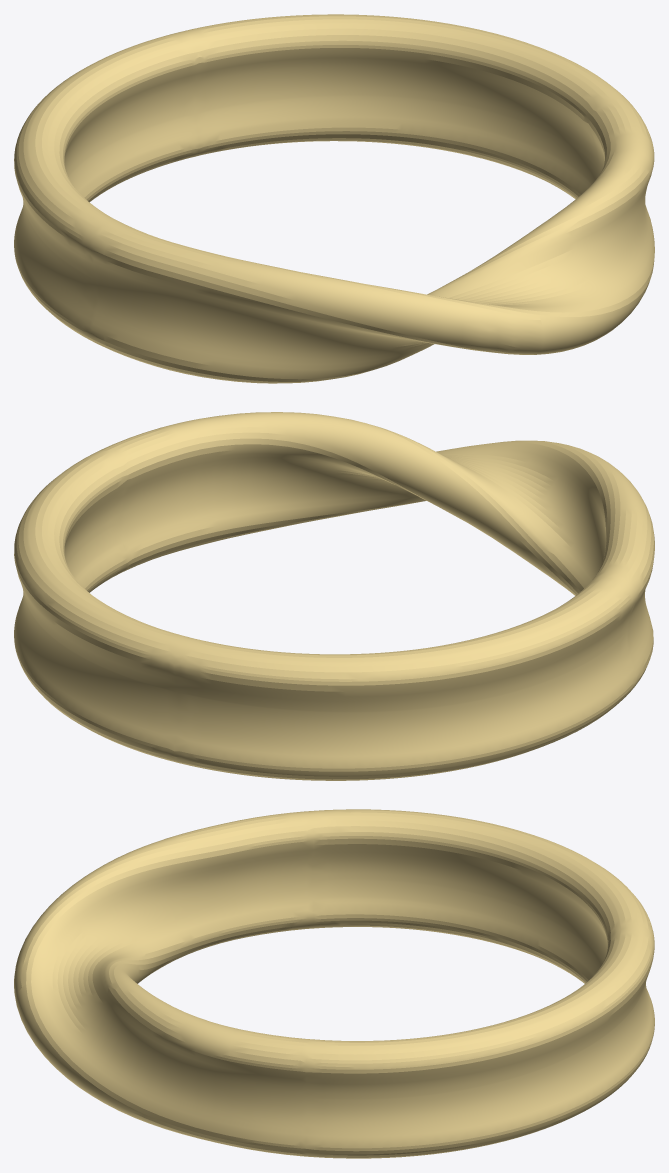
File: uploads_files_3212018_CGT_0018_small_mobius_ring_FB.fbx
3 renders of one model, top to bottom at view 1: azimuth 30°, elevation 25°; view 2: azimuth 150°, elevation 25°; view 3: azimuth 270°, elevation 25°, orthographic. The views are drawn at different scales.
Visible parts, largest first — view 1: Metal 01; view 2: Metal 01; view 3: Metal 01.
Part boxes in pixels (x1=…): Metal 01: x1=14, y1=14, x2=654, y2=383; Metal 01: x1=14, y1=412, x2=654, y2=780; Metal 01: x1=14, y1=809, x2=654, y2=1158.
Size of the model in its own units: 20.21 by 4.22 by 21.76.
